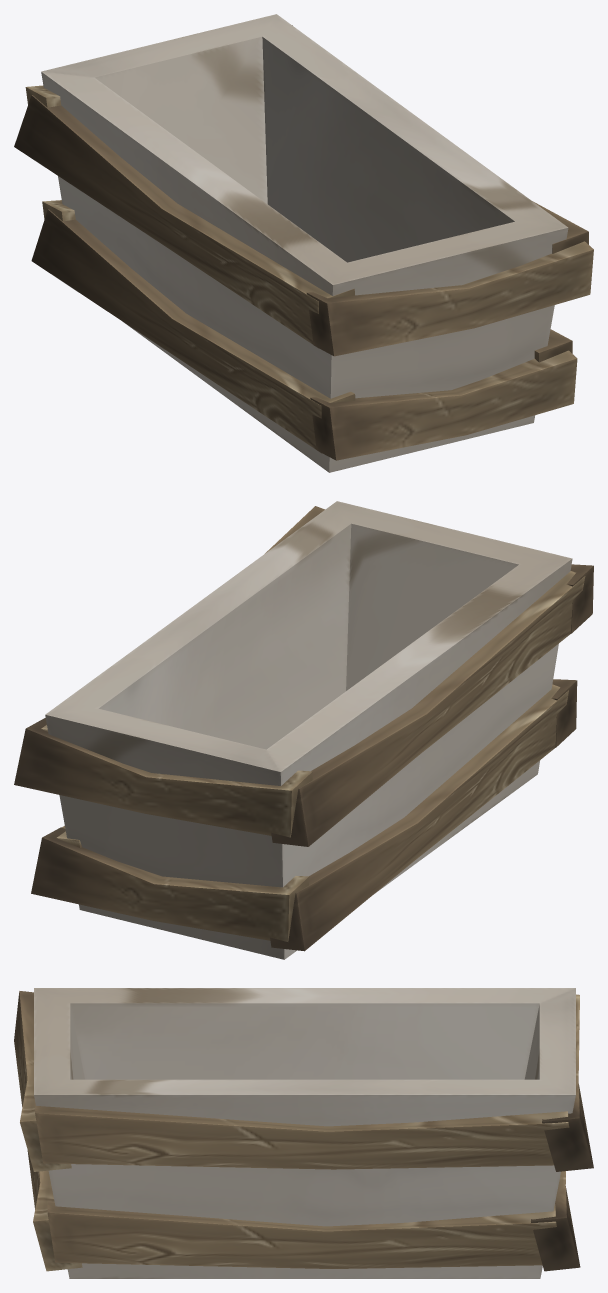
Rendered from Egypt_Village_Props_04.FBX.
3 renders of one model, top to bottom at view 1: azimuth 30°, elevation 25°; view 2: azimuth 150°, elevation 25°; view 3: azimuth 270°, elevation 25°, orthographic. The views are drawn at different scales.
Parts seen in each view (by area): view 1: Egypt_Village_Props_04; view 2: Egypt_Village_Props_04; view 3: Egypt_Village_Props_04.
Part boxes in pixels (x1=…): Egypt_Village_Props_04: x1=14, y1=14, x2=593, y2=472; Egypt_Village_Props_04: x1=14, y1=501, x2=593, y2=959; Egypt_Village_Props_04: x1=14, y1=988, x2=593, y2=1278.
Size of the model in its own units: 60.31 by 40.98 by 113.
